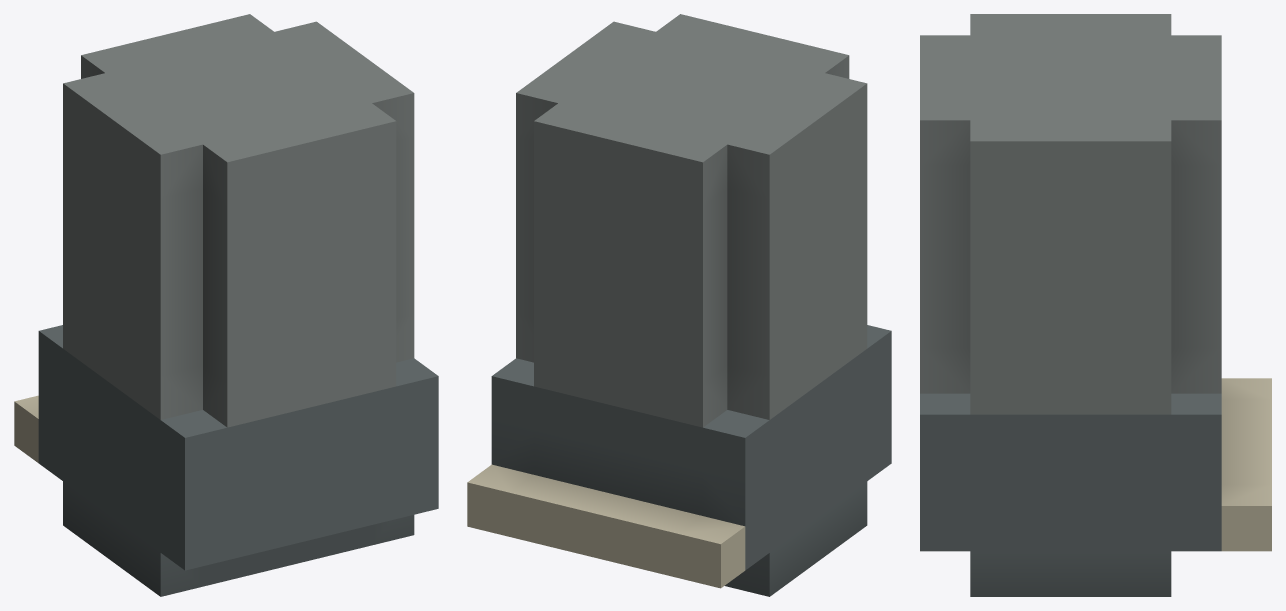
Rendered from leg.glb.
The picture shows the model from 3 angles, left to right: view 1: azimuth 30°, elevation 25°; view 2: azimuth 150°, elevation 25°; view 3: azimuth 270°, elevation 25°; orthographic projection. The views are drawn at different scales.
Parts seen in each view (by area): view 1: VoxelVisual__Upper, VoxelVisual__Lower; view 2: VoxelVisual__Upper, VoxelVisual__Lower; view 3: VoxelVisual__Upper, VoxelVisual__Lower.
Boxes of the visible parts, x1,y1,x2,y2 form: VoxelVisual__Upper: [63, 14, 414, 427]; VoxelVisual__Lower: [14, 325, 438, 596]; VoxelVisual__Upper: [516, 14, 867, 427]; VoxelVisual__Lower: [467, 325, 891, 596]; VoxelVisual__Upper: [920, 14, 1221, 414]; VoxelVisual__Lower: [920, 378, 1271, 596].
Size of what is drawn, in the model's own units: 0.375 by 0.625 by 0.4375.
